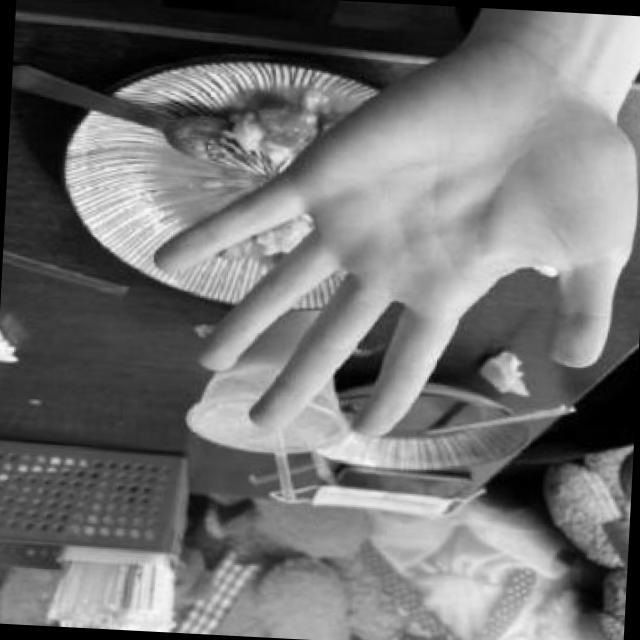without_gloves: (129, 3, 640, 470)
